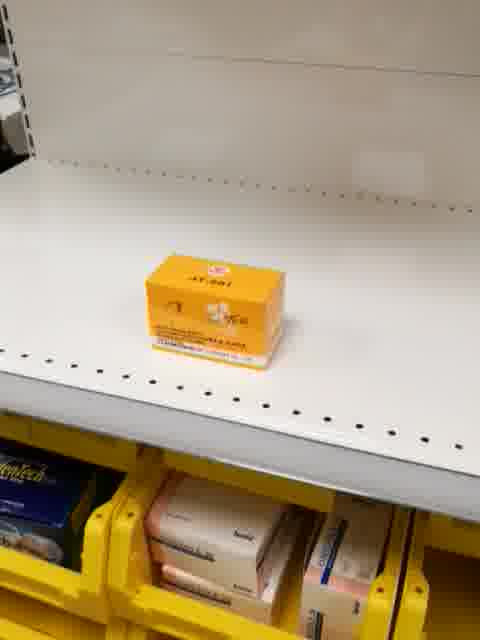jasminetea: (143, 249, 288, 375)
